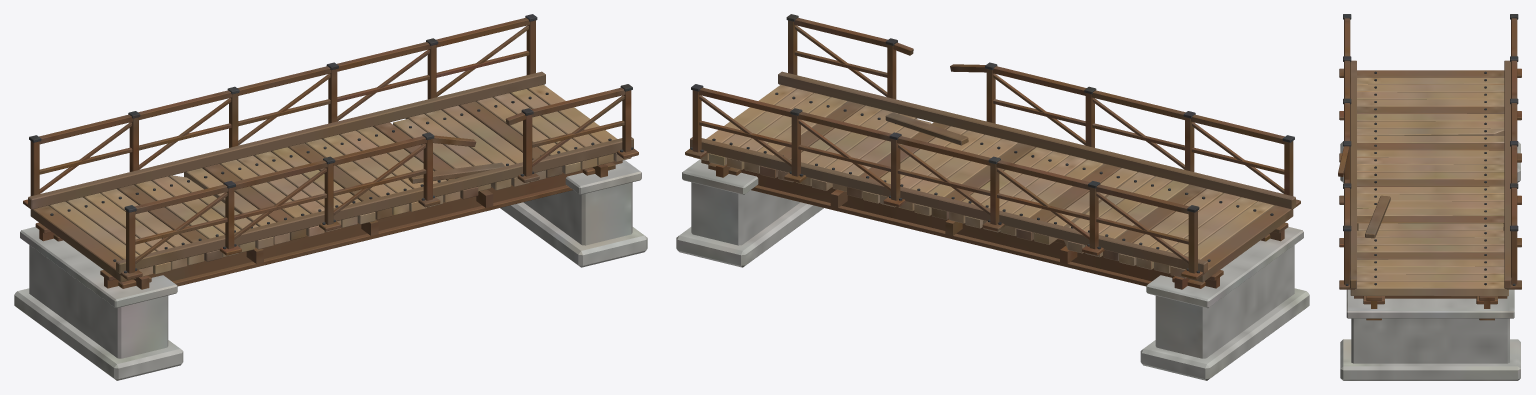
File: RE11_bridge_section.glb
The picture shows the model from 3 angles, left to right: view 1: azimuth 30°, elevation 25°; view 2: azimuth 150°, elevation 25°; view 3: azimuth 270°, elevation 25°; orthographic projection. The views are drawn at different scales.
Parts seen in each view (by area): view 1: Concrete footing; view 2: Concrete footing; view 3: Concrete footing.
Boxes of the visible parts, box(x1,y1,x2,y2) form: Concrete footing: box(14, 14, 647, 380); Concrete footing: box(676, 14, 1309, 380); Concrete footing: box(1338, 14, 1521, 380).
Size of the model in its own units: 10 by 3.01 by 3.41.
Materials: 5 (5 with a texture image).
